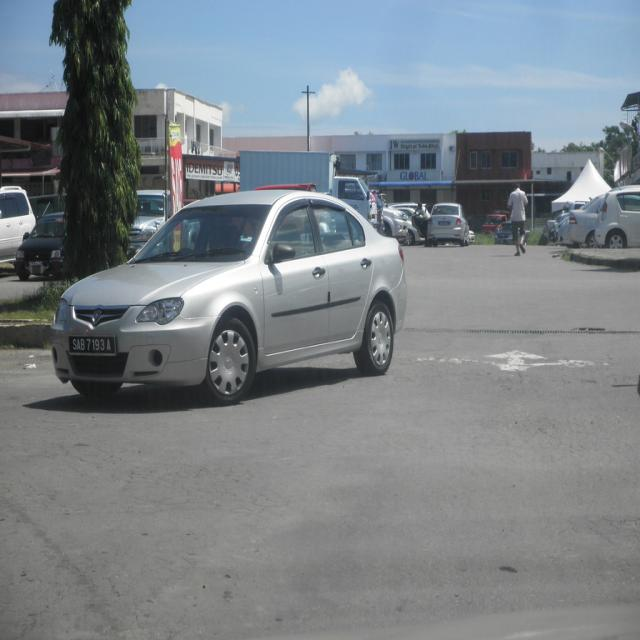car: (50, 187, 410, 402), (410, 202, 471, 245)
